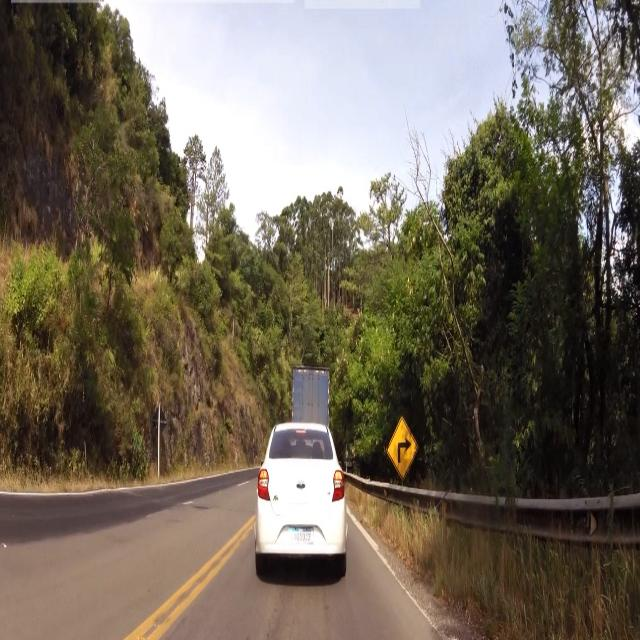A-1b: (387, 412, 422, 478)
